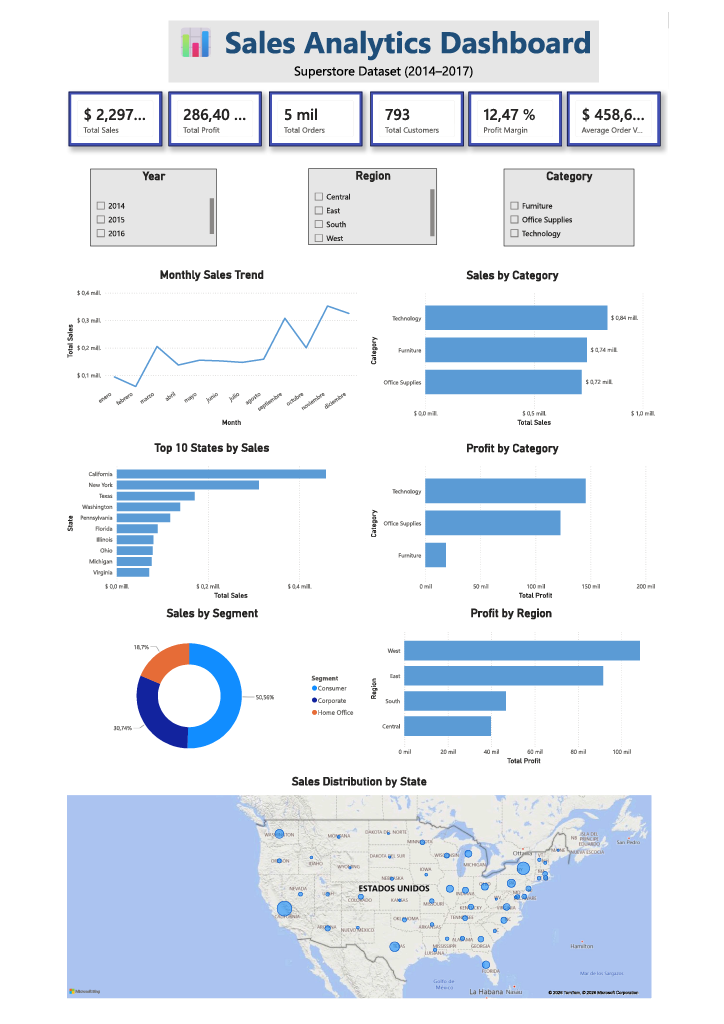

Layout of this report page (visuals, bound fields, positions):
{"tool":"powerbi","page":{"name":"Executive Dashboard","canvas":[1280,2100],"ordinal":0},"visuals":[{"type":"textbox","title":"📊 Sales Analytics Dashboard","box":[233.3,17.5,901.8,129.8],"z":0},{"type":"cardVisual","fields":{"Data":["Sales.Total Sales"]},"box":[24.4,167.3,195.6,113.2],"z":1000},{"type":"cardVisual","fields":{"Data":["Sales.Total Profit"]},"box":[232.9,167.3,195.6,113.2],"z":2000},{"type":"cardVisual","fields":{"Data":["Sales.Total Orders"]},"box":[443.9,167.3,195.6,113.2],"z":3000},{"type":"cardVisual","fields":{"Data":["Sales.Total Customers"]},"box":[656.2,167.3,195.6,113.2],"z":4000},{"type":"cardVisual","fields":{"Data":["Sales.Profit Margin"]},"box":[862.1,167.3,195.6,113.2],"z":5000},{"type":"cardVisual","fields":{"Data":["Sales.Average Order Value"]},"box":[1068,167.3,195.6,113.2],"z":6000},{"type":"lineChart","title":"Monthly Sales Trend","fields":{"Category":["Calendar.Month"],"Y":["Sales.Total Sales"]},"box":[13.8,537.1,619.8,337.4],"z":7000},{"type":"barChart","title":"Sales by Category","fields":{"Category":["Sales.Category"],"Y":["Sales.Total Sales"]},"box":[650.3,538.3,607.8,336.2],"z":8000},{"type":"barChart","title":"Profit by Category","fields":{"Category":["Sales.Category"],"Y":["Sales.Total Profit"]},"box":[650.2,901.2,607.4,335.8],"z":9000},{"type":"barChart","title":"Top 10 States by Sales","fields":{"Category":["Sales.State"],"Y":["Sales.Total Sales"]},"box":[14.4,900,620,337],"z":10000},{"type":"donutChart","title":"Sales by Segment","fields":{"Category":["Sales.Segment"],"Y":["Sales.Total Sales"]},"box":[14.7,1246.7,620,337],"z":11000},{"type":"barChart","title":"Profit by Region","fields":{"Category":["Sales.Region"],"Y":["Sales.Total Profit"]},"box":[650.2,1246.9,602.5,337],"z":12000},{"type":"map","title":"Sales Distribution by State","fields":{"Size":["Sales.Total Sales"],"Category":["Sales.State"]},"box":[15.8,1600,1233.8,473.5],"z":13000},{"type":"slicer","title":"Year","fields":{"Values":["Sales.Year"]},"box":[68.6,329.1,265.7,161.4],"z":14000},{"type":"slicer","title":"Region","fields":{"Values":["Sales.Region"]},"box":[525.8,328,270,160],"z":15000},{"type":"slicer","title":"Category","fields":{"Values":["Sales.Category"]},"box":[935.7,329.1,272.9,161.4],"z":16000}]}

Visuals, with their boxes on the page's 1280x2100 design canvas (x1, y1, x2, y2). These are canvas units, not pixel positions in the 724x1024 screenshot, which may show the page scaled, cropped or inside an application window:
"📊 Sales Analytics Dashboard" textbox: bbox(233, 18, 1135, 147)
cardVisual - Sales.Total Sales: bbox(24, 167, 220, 280)
cardVisual - Sales.Total Profit: bbox(233, 167, 428, 280)
cardVisual - Sales.Total Orders: bbox(444, 167, 640, 280)
cardVisual - Sales.Total Customers: bbox(656, 167, 852, 280)
cardVisual - Sales.Profit Margin: bbox(862, 167, 1058, 280)
cardVisual - Sales.Average Order Value: bbox(1068, 167, 1264, 280)
"Monthly Sales Trend" lineChart: bbox(14, 537, 634, 874)
"Sales by Category" barChart: bbox(650, 538, 1258, 874)
"Profit by Category" barChart: bbox(650, 901, 1258, 1237)
"Top 10 States by Sales" barChart: bbox(14, 900, 634, 1237)
"Sales by Segment" donutChart: bbox(15, 1247, 635, 1584)
"Profit by Region" barChart: bbox(650, 1247, 1253, 1584)
"Sales Distribution by State" map: bbox(16, 1600, 1250, 2074)
"Year" slicer: bbox(69, 329, 334, 490)
"Region" slicer: bbox(526, 328, 796, 488)
"Category" slicer: bbox(936, 329, 1209, 490)
